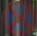No Stopping: (2, 0, 36, 34)
